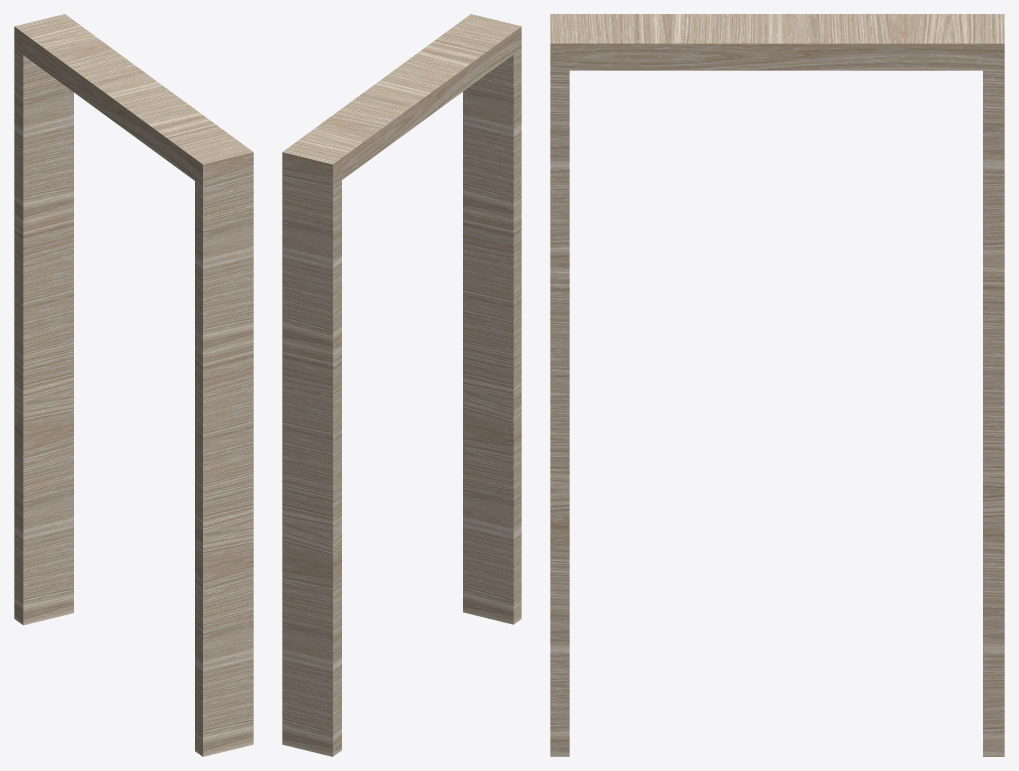
Rendered from FLAT_entranceDoorJamb_01.FBX.
3 renders of one model, left to right at view 1: azimuth 30°, elevation 25°; view 2: azimuth 150°, elevation 25°; view 3: azimuth 270°, elevation 25°, orthographic. The views are drawn at different scales.
Visible parts, largest first — view 1: FLAT_entranceDoorJamb_01; view 2: FLAT_entranceDoorJamb_01; view 3: FLAT_entranceDoorJamb_01.
Boxes of the visible parts, <box> form: FLAT_entranceDoorJamb_01: <box>14,14,253,756</box>; FLAT_entranceDoorJamb_01: <box>282,14,521,756</box>; FLAT_entranceDoorJamb_01: <box>550,14,1004,756</box>.
Bounding box in the file's own units: 26.4 × 295 × 170.
1 material, 1 textured.
